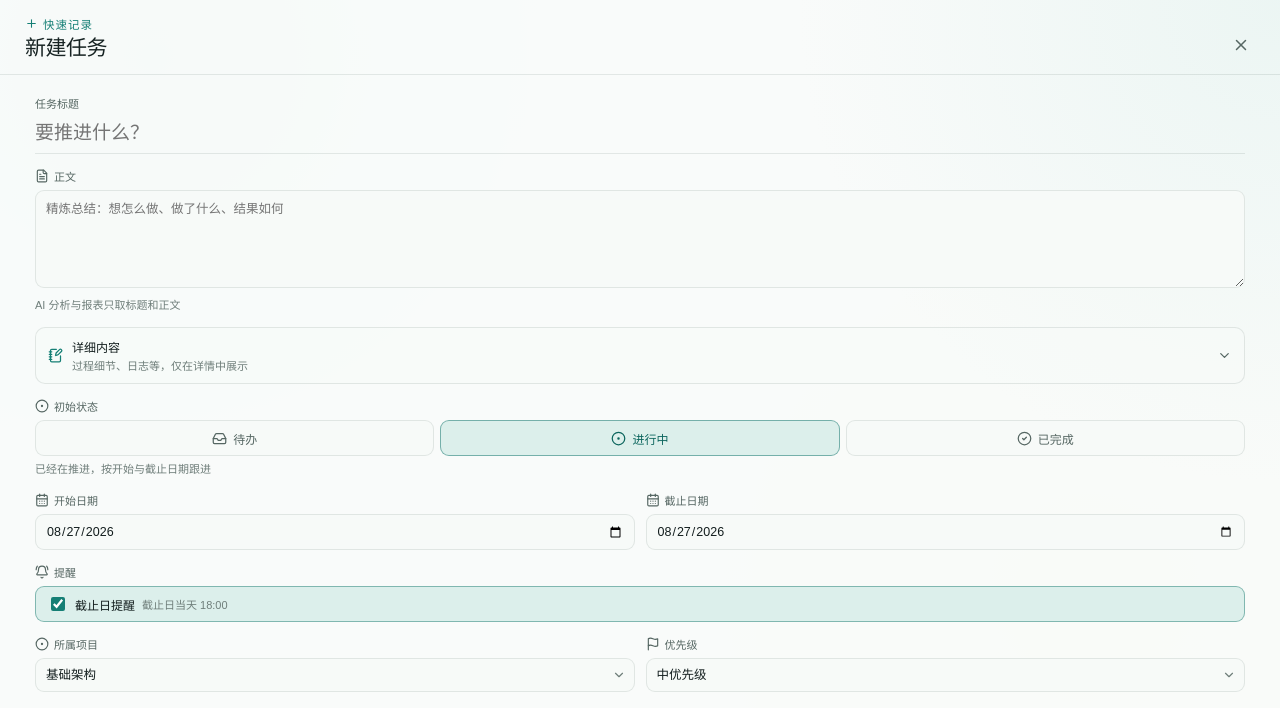
Scenario: QuickCreate › 从待办切回进行中会恢复日期
Click the button "待办" at (235, 438), box [35, 420, 434, 456]
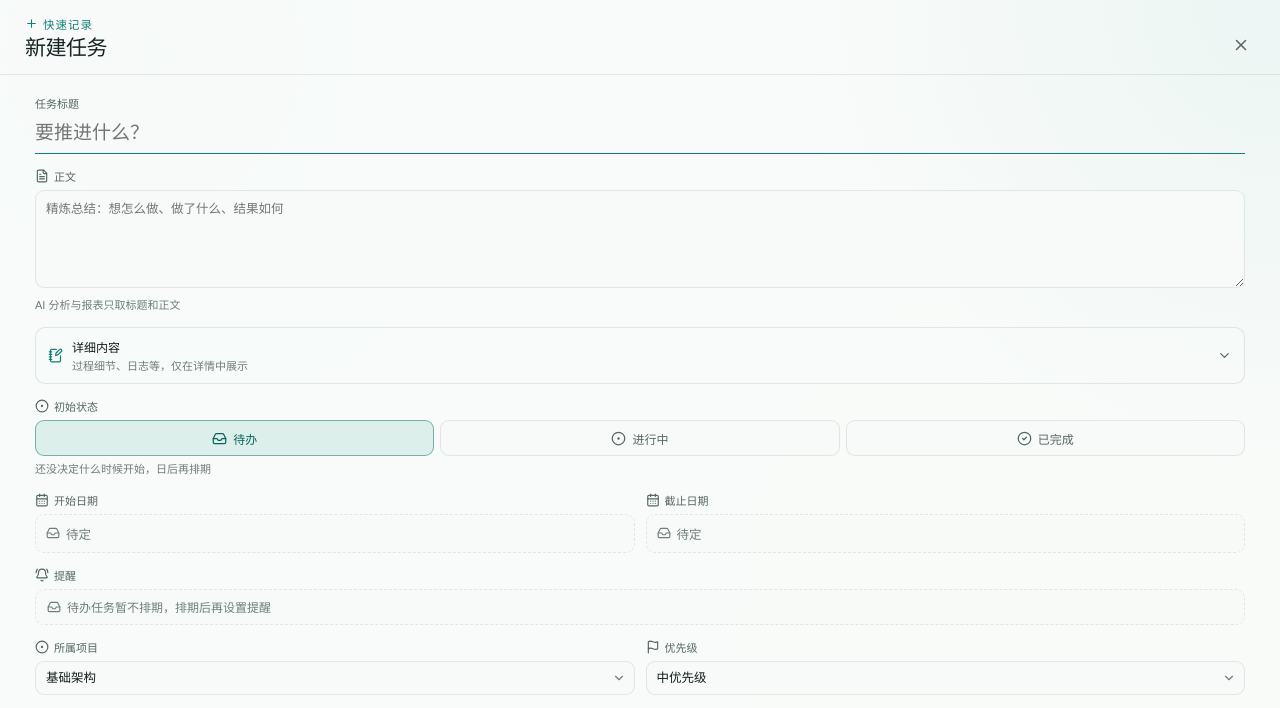
Click the button "进行中" at (640, 438), box [440, 420, 840, 456]
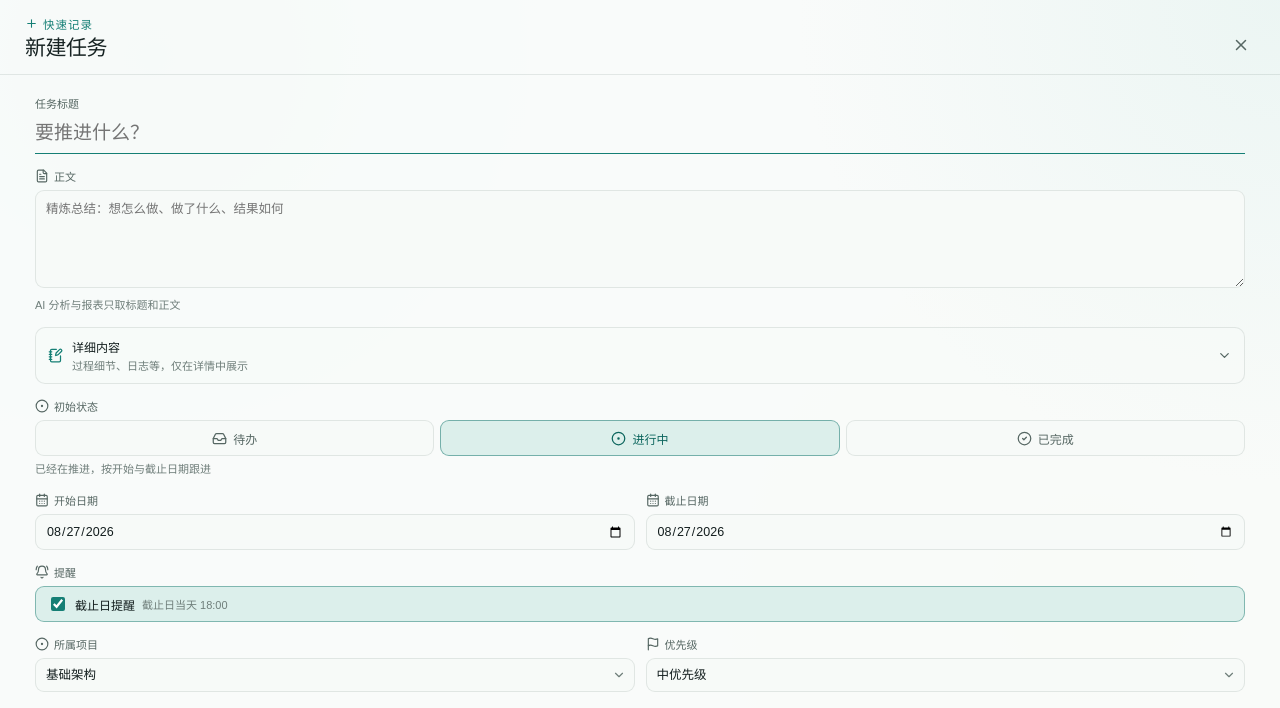
Expected: the number of date fields is 2, [35, 514, 634, 550]; [646, 514, 1245, 550]
